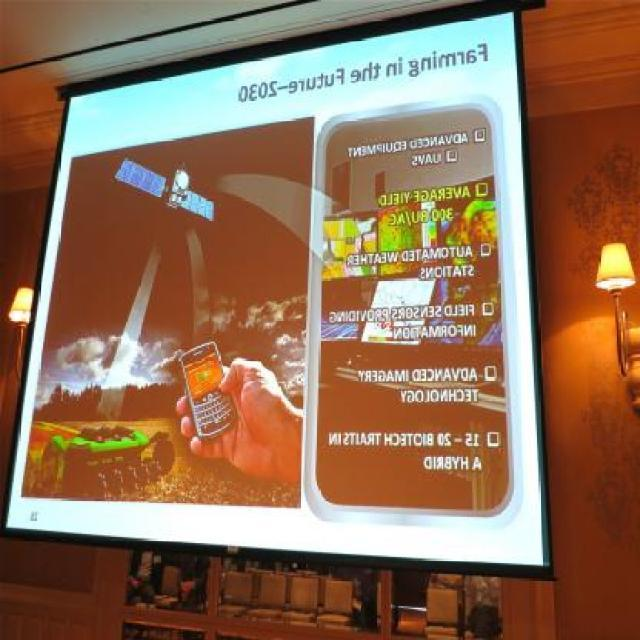phone: (180, 345, 238, 457), (332, 158, 350, 216), (373, 170, 385, 201)
